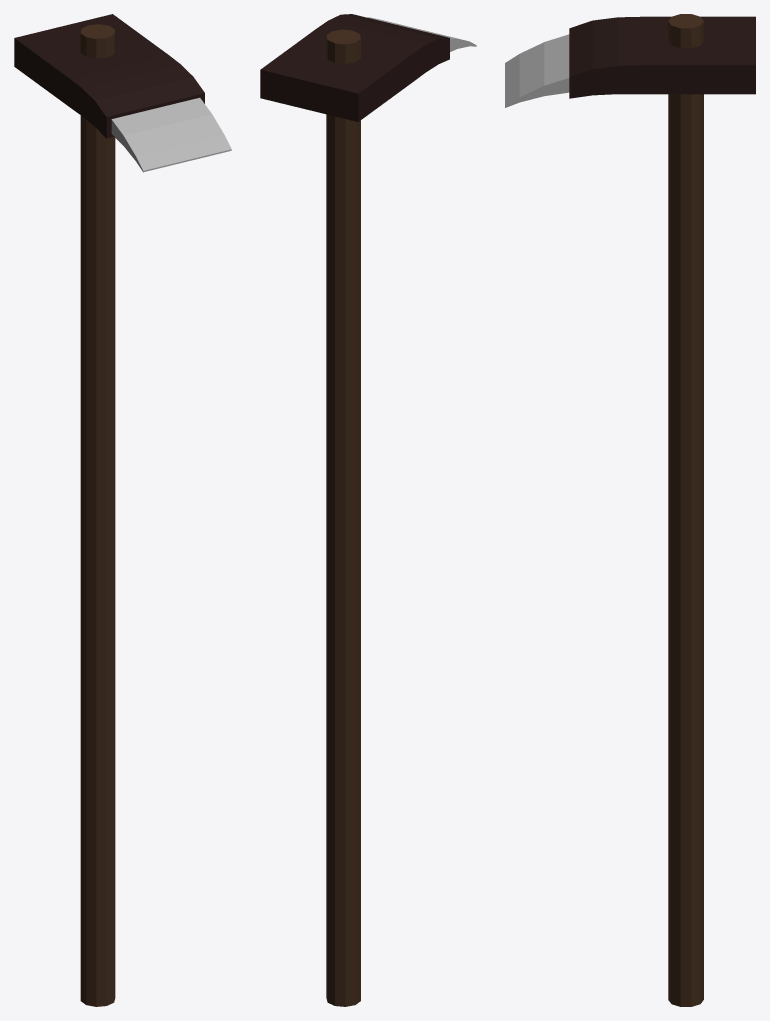
Rendered from TillingHoe 1.fbx.
3 views of the same model, side by side, from view 1: azimuth 30°, elevation 25°; view 2: azimuth 150°, elevation 25°; view 3: azimuth 270°, elevation 25° (orthographic).
Parts seen in each view (by area): view 1: Hoe; view 2: Hoe; view 3: Hoe.
Boxes of the visible parts, x1,y1,x2,y2 form: Hoe: (14, 14, 231, 1006); Hoe: (260, 14, 476, 1006); Hoe: (505, 14, 755, 1006).
Size of the model in its own units: 15.93 by 150 by 34.74.
